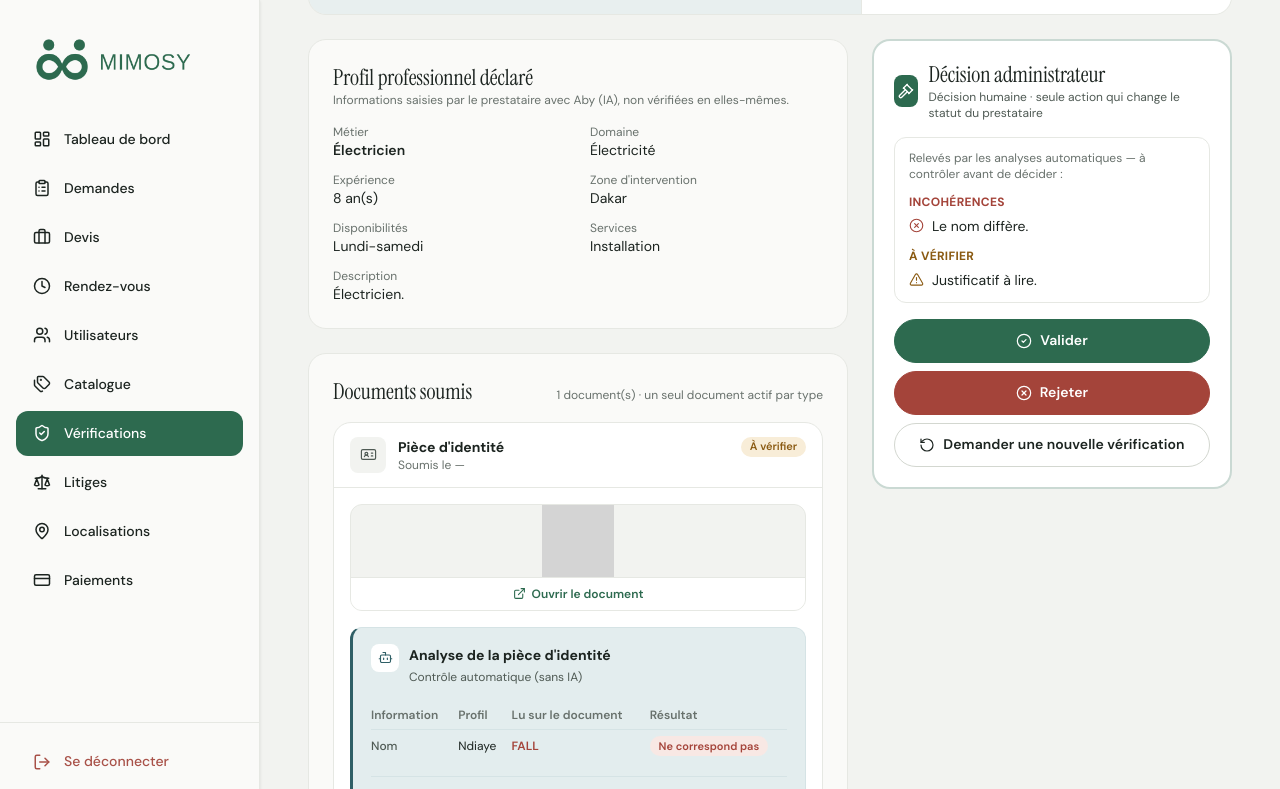
dossier admin › « À vérifier » : étape et motif transmis, décision enregistrée
(page scrolled)
Step 1. Click the button with test id "a-verifier" → (1052, 445), box [894, 423, 1210, 467]
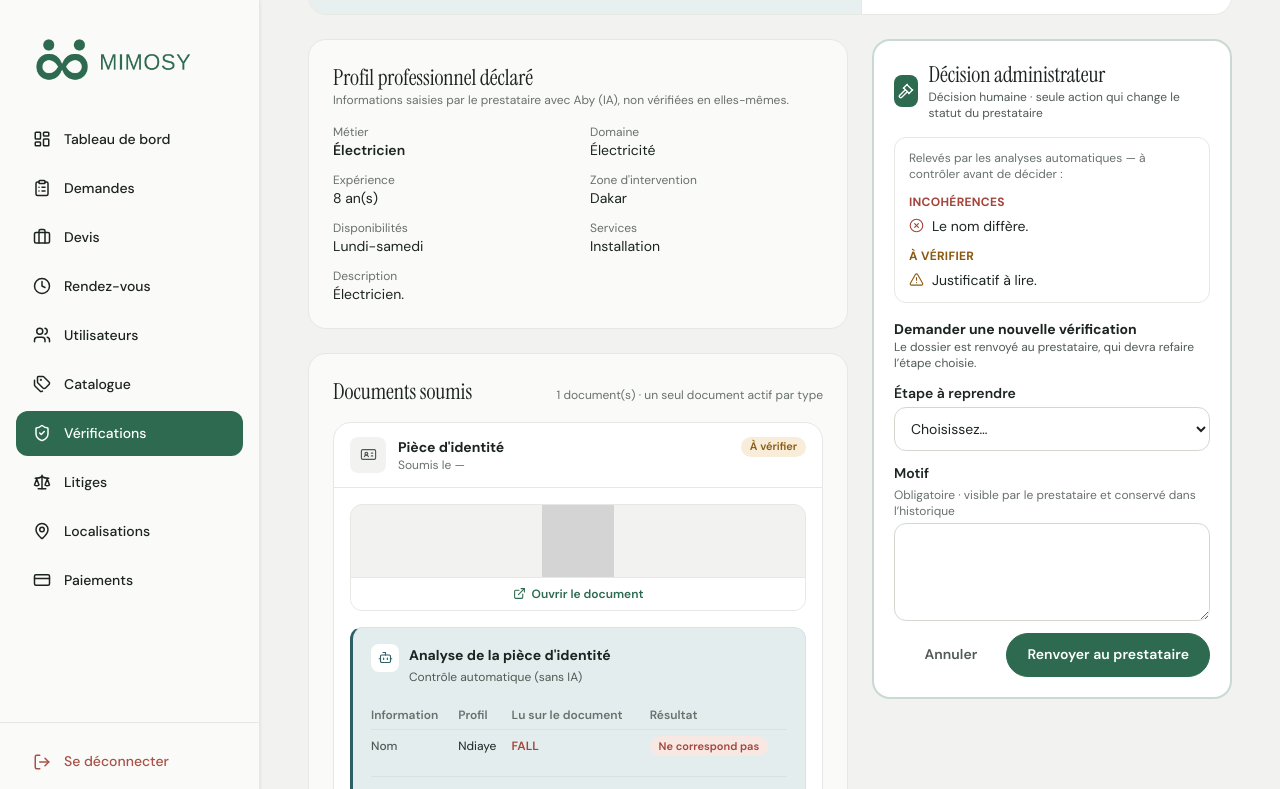
Step 2. Select "Justificatif professionnel" in the dropdown with test id "etape-a-reprendre" → (1052, 429), box [894, 407, 1210, 451]
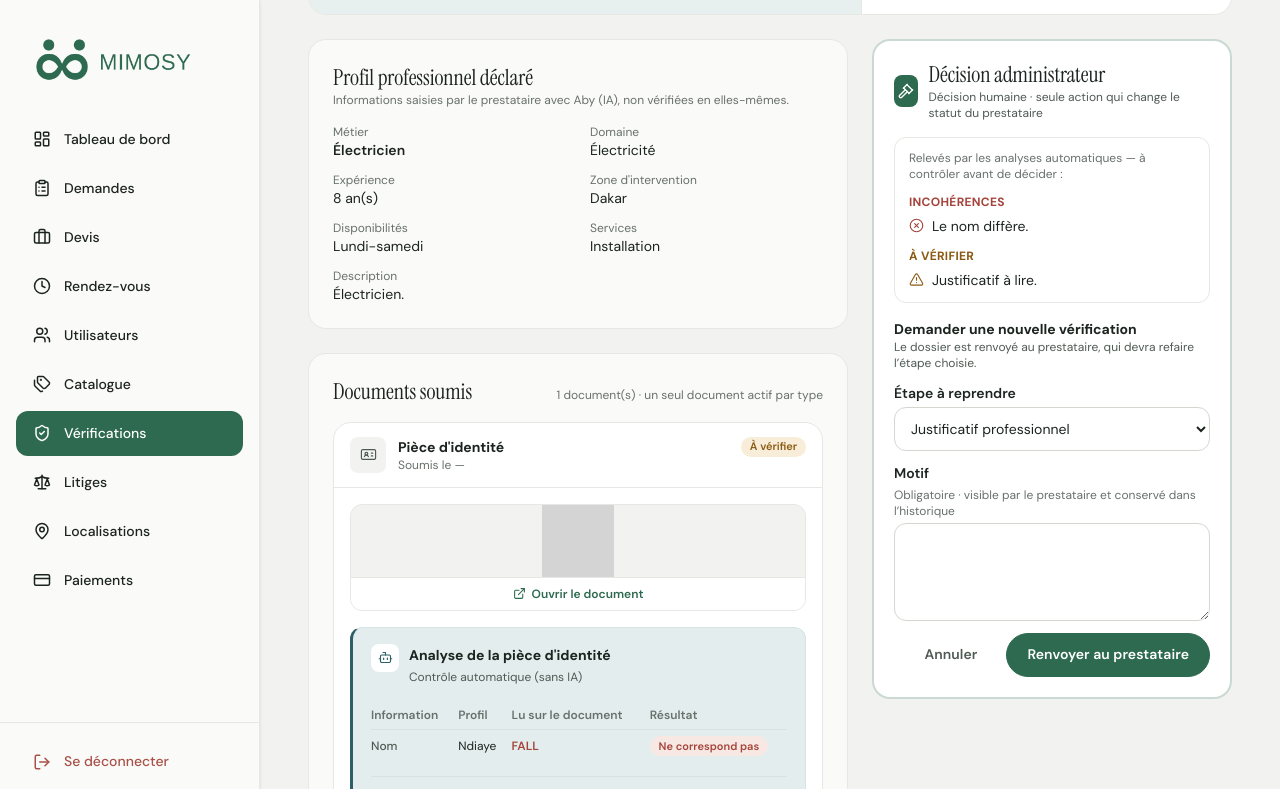
Step 3. Type "Justificatif illisible." into the text box with test id "motif" → (1052, 572), box [894, 523, 1210, 621]
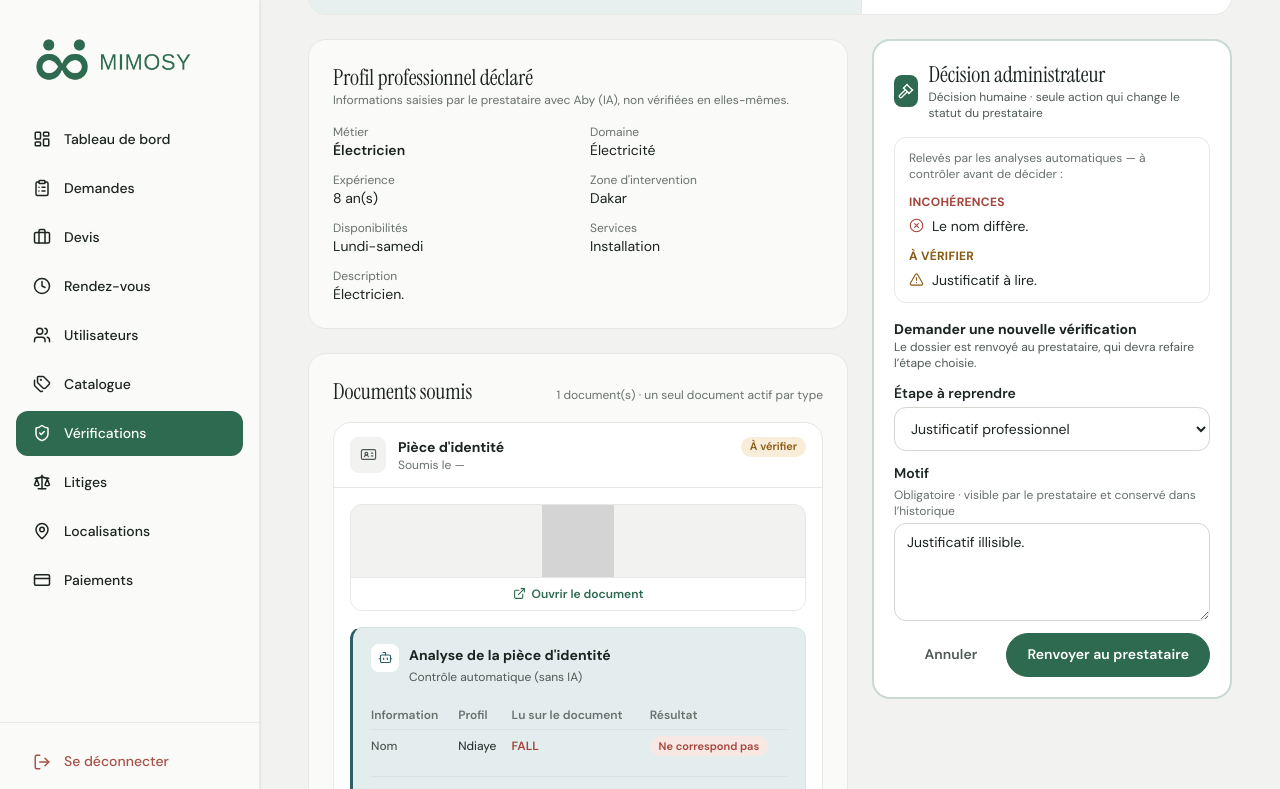
Step 4. Submit the form, box [894, 319, 1210, 677]
(page scrolled)
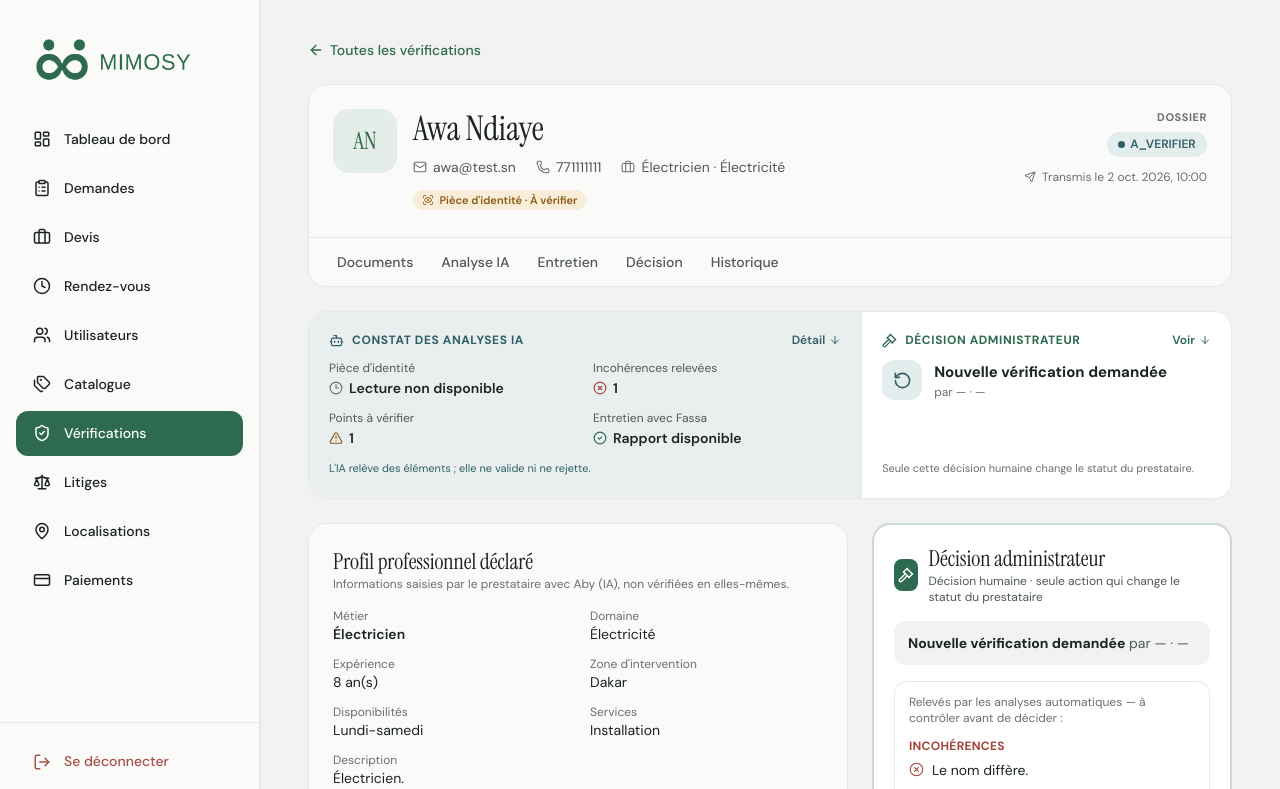
Check: the element with test id "statut" reads "A_VERIFIER", box [1130, 136, 1196, 152]
